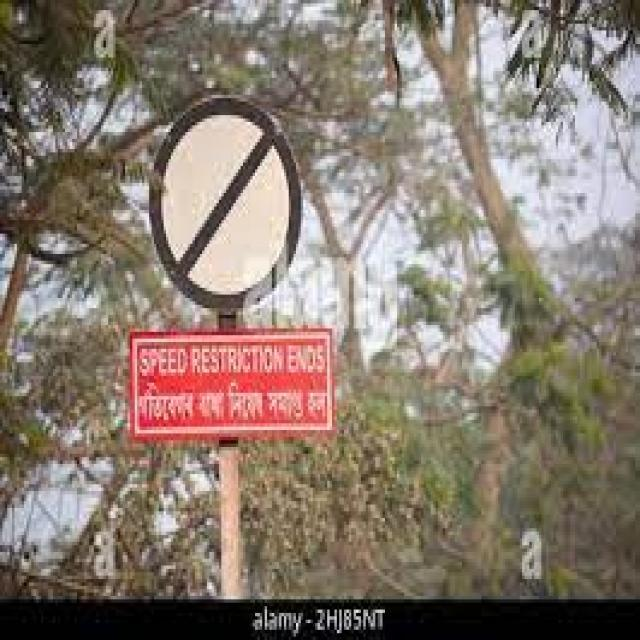restriction ends: (147, 96, 306, 315)
